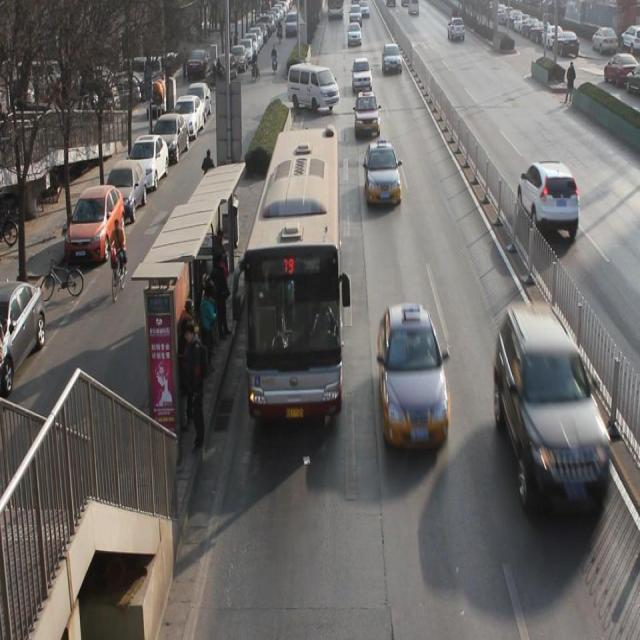car: (498, 317, 613, 508), (518, 163, 584, 247), (365, 140, 404, 208), (351, 86, 380, 133), (349, 58, 375, 94), (382, 41, 406, 80), (298, 63, 312, 114), (447, 20, 470, 42), (347, 22, 364, 48)
truck: (381, 310, 455, 458), (290, 64, 338, 117)
van: (244, 131, 342, 421)
